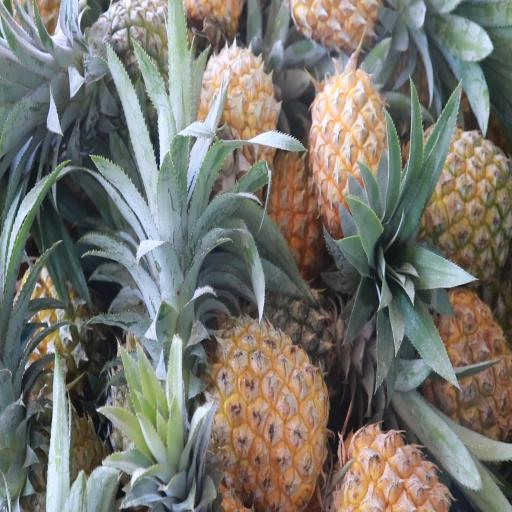Pineapple - v8 v1: (214, 305, 330, 511), (419, 281, 512, 436), (311, 71, 393, 237), (420, 125, 510, 275), (327, 408, 452, 512), (200, 46, 277, 179)
